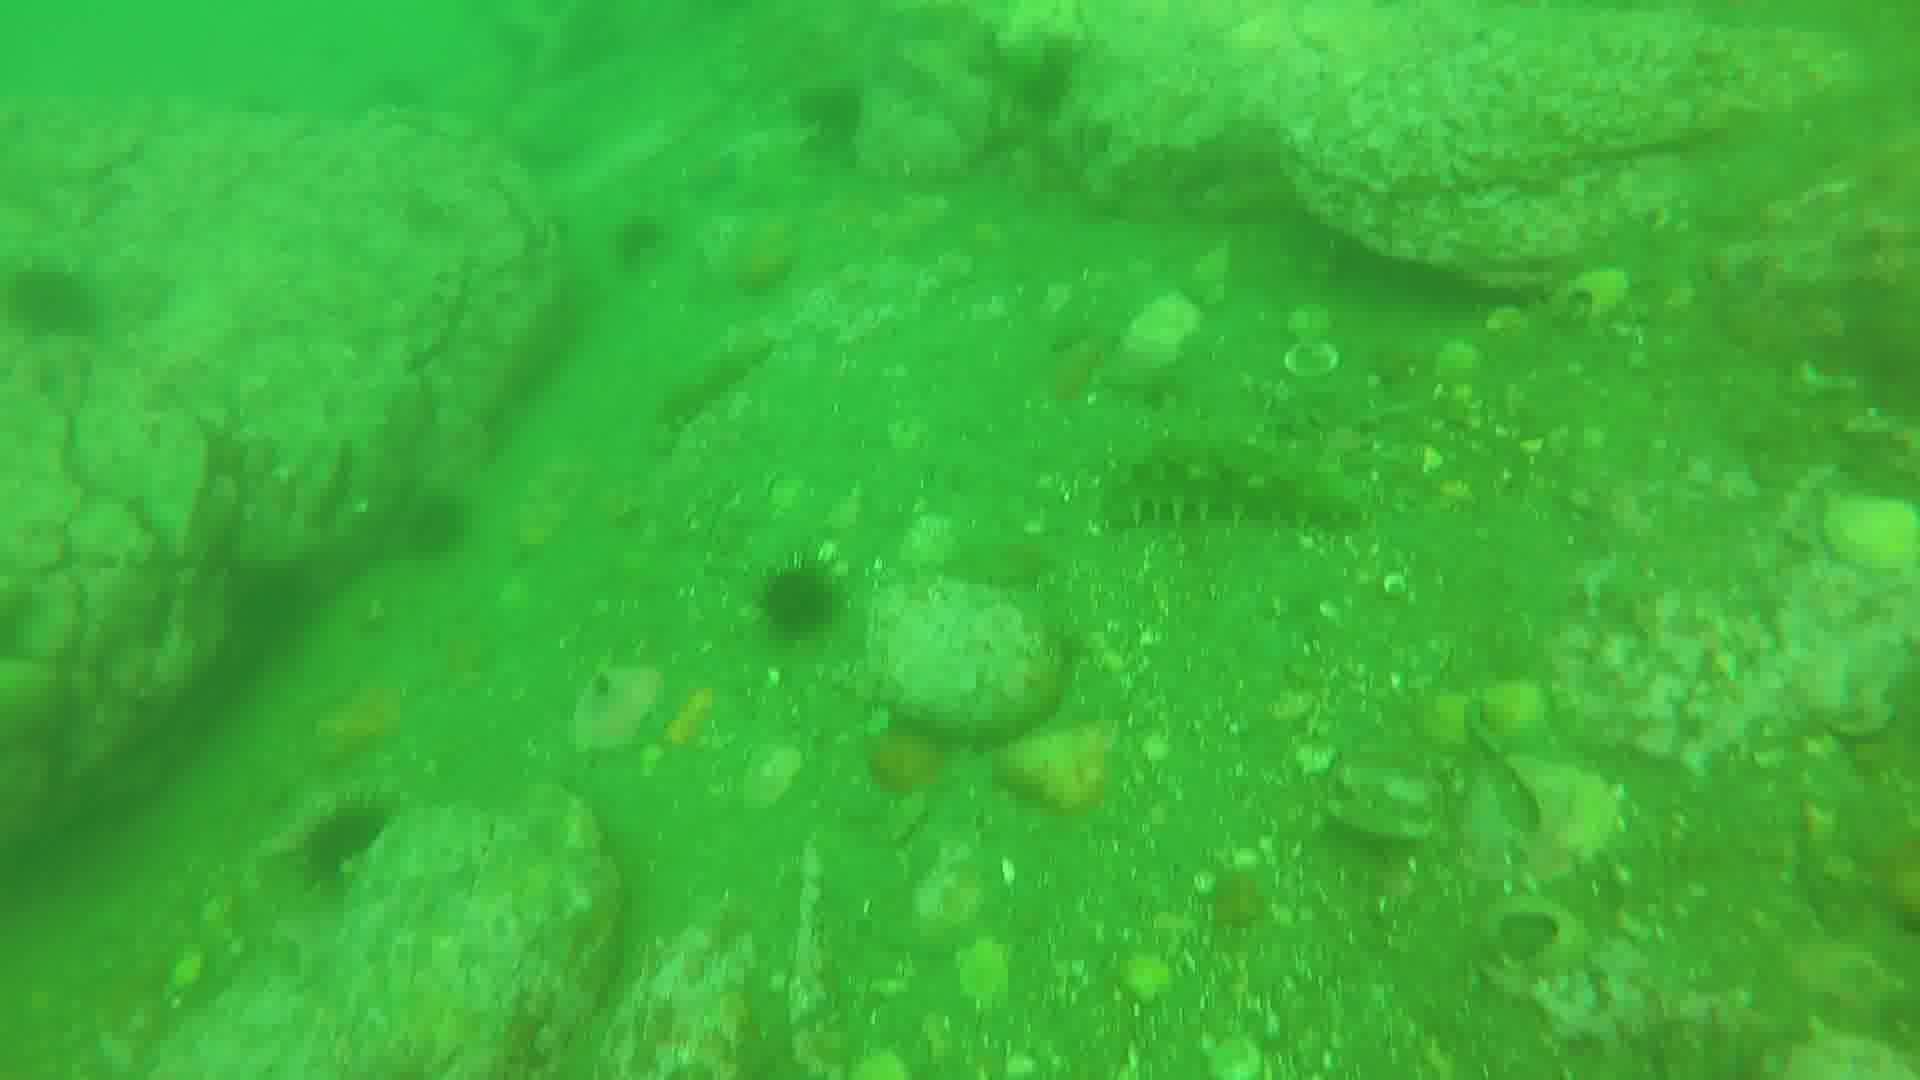echinus: (8, 262, 109, 345), (303, 802, 389, 870), (754, 563, 837, 632), (394, 483, 458, 555), (1021, 36, 1072, 105), (811, 86, 870, 144), (625, 214, 679, 266)
holothurian: (1104, 447, 1370, 547), (658, 336, 775, 439)
